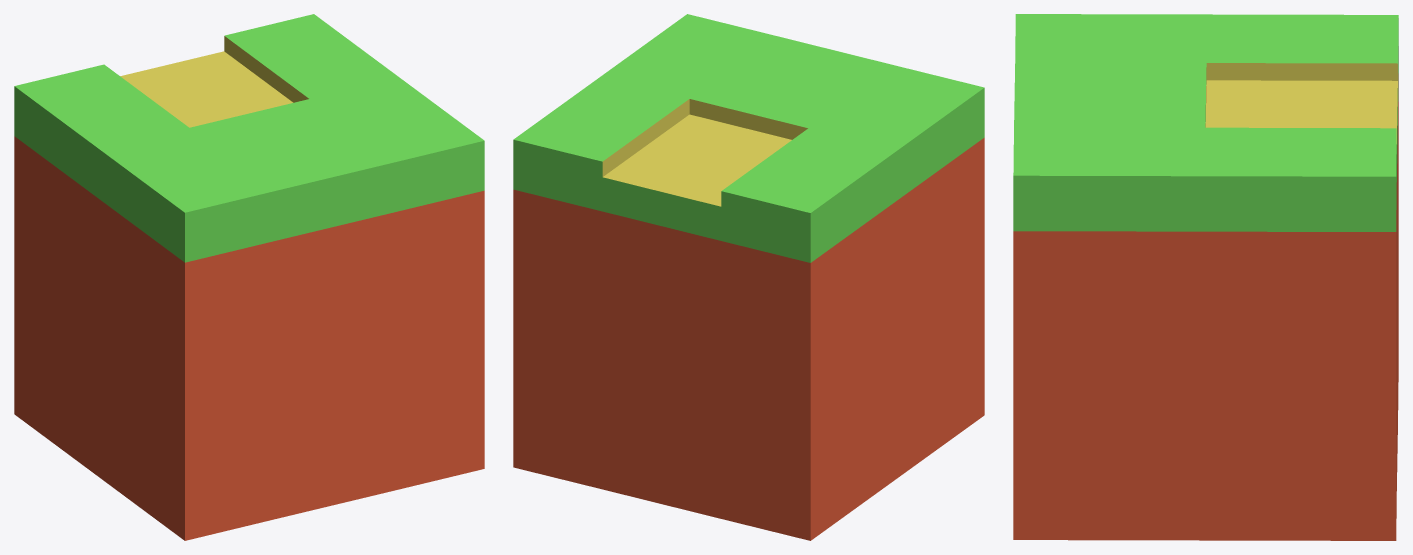
The model's file is bigtile4.fbx.
The picture shows the model from 3 angles, left to right: view 1: azimuth 30°, elevation 25°; view 2: azimuth 150°, elevation 25°; view 3: azimuth 270°, elevation 25°; orthographic projection. The views are drawn at different scales.
Visible parts, largest first — view 1: Cube.004; view 2: Cube.004; view 3: Cube.004.
Boxes of the visible parts, x1,y1,x2,y2 form: Cube.004: (14,14,484,540); Cube.004: (513,14,984,540); Cube.004: (1013,14,1398,540).
Size of the model in its own units: 201 by 210 by 201.
